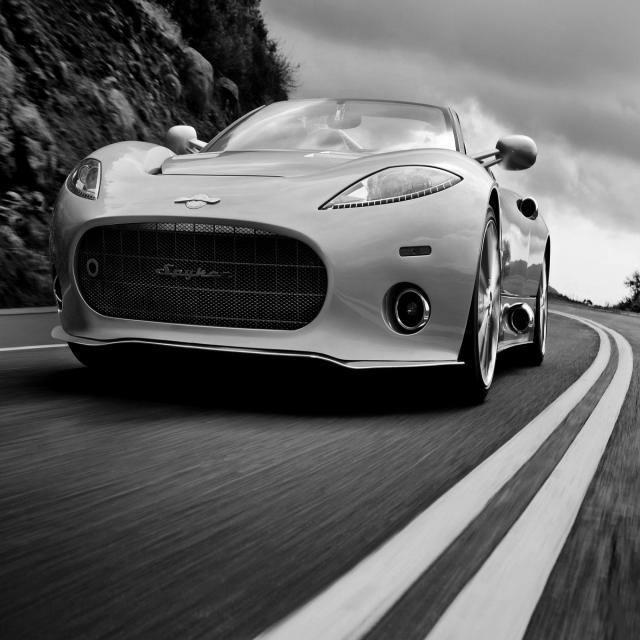car: (48, 96, 551, 399)
